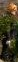hard-hat: (6, 1, 16, 9)
